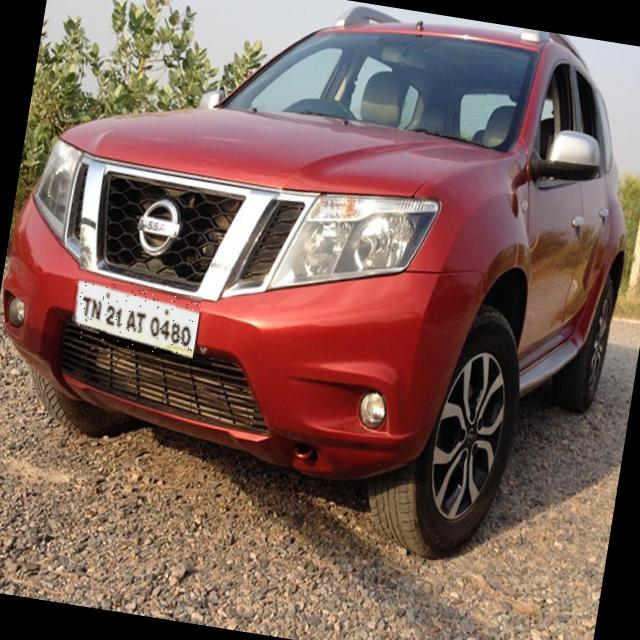Plate: (68, 279, 203, 360)
